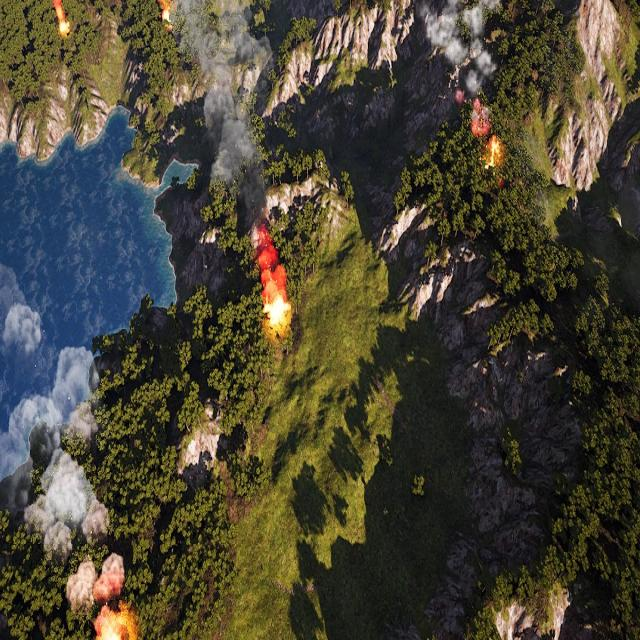fire: (94, 606, 132, 640), (264, 291, 292, 330), (56, 2, 70, 35), (487, 136, 501, 167), (162, 1, 172, 24)
smoke: (0, 279, 125, 603), (160, 2, 280, 286), (414, 0, 502, 131)
